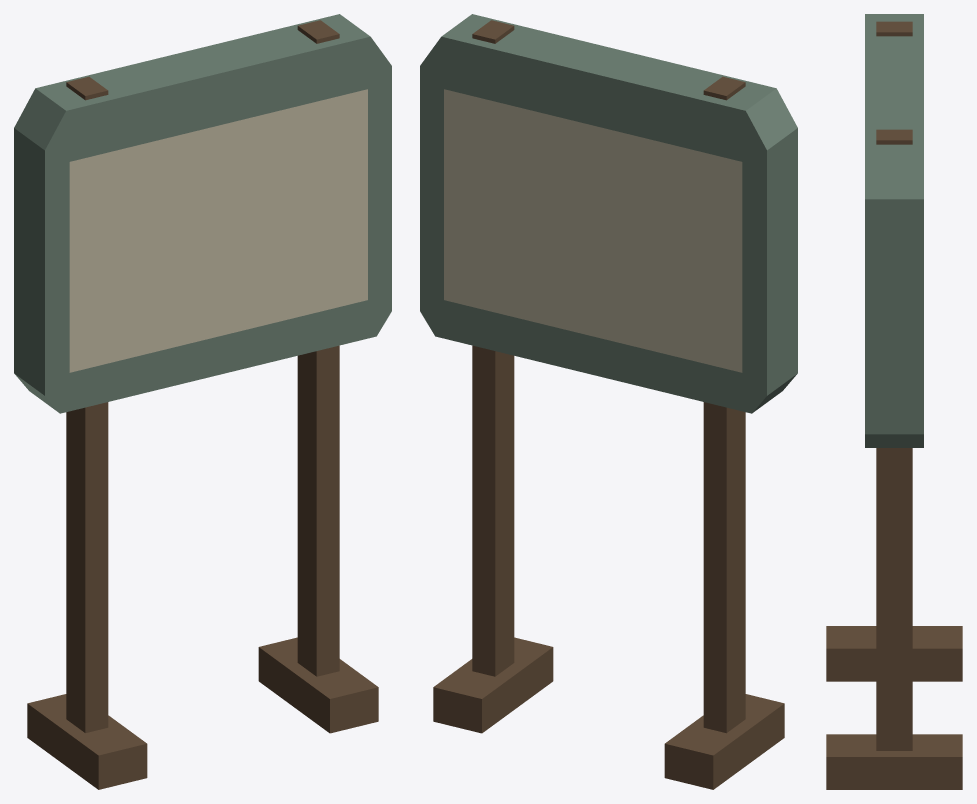
File: alc_dock_welcome.glb
3 renders of one model, left to right at view 1: azimuth 30°, elevation 25°; view 2: azimuth 150°, elevation 25°; view 3: azimuth 270°, elevation 25°, orthographic. The views are drawn at different scales.
Parts seen in each view (by area): view 1: alc_dock_welcome; view 2: alc_dock_welcome; view 3: alc_dock_welcome.
Boxes of the visible parts, bbox=[...] form: alc_dock_welcome: bbox=[14, 14, 391, 789]; alc_dock_welcome: bbox=[420, 14, 797, 789]; alc_dock_welcome: bbox=[826, 14, 962, 789].
Size of the model in its own units: 0.8436 by 1.56 by 0.3.
